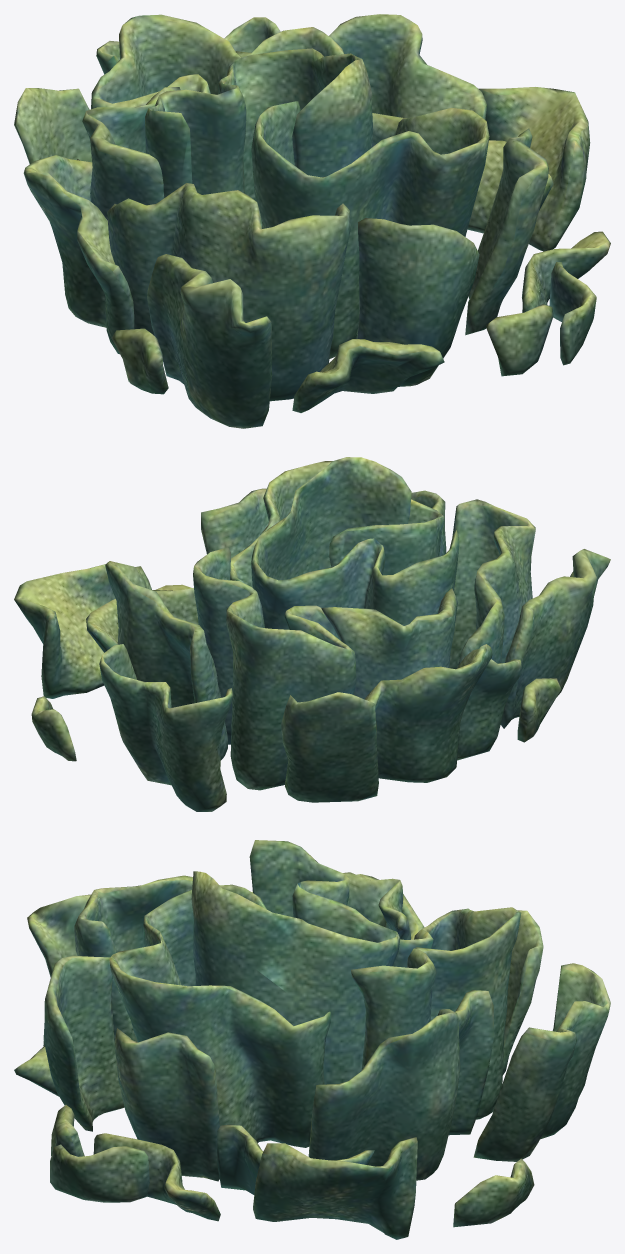
File: CabbageCoral01-transformed.glb
3 renders of one model, top to bottom at view 1: azimuth 30°, elevation 25°; view 2: azimuth 150°, elevation 25°; view 3: azimuth 270°, elevation 25°, orthographic. The views are drawn at different scales.
Visible parts, largest first — view 1: CabbageCoral01; view 2: CabbageCoral01; view 3: CabbageCoral01.
Part boxes in pixels (x1=…): CabbageCoral01: x1=14, y1=14, x2=610, y2=428; CabbageCoral01: x1=14, y1=457, x2=610, y2=811; CabbageCoral01: x1=14, y1=840, x2=610, y2=1239.
Bounding box in the file's own units: 5.18 × 2.53 × 5.31.
1 material, 1 textured.
